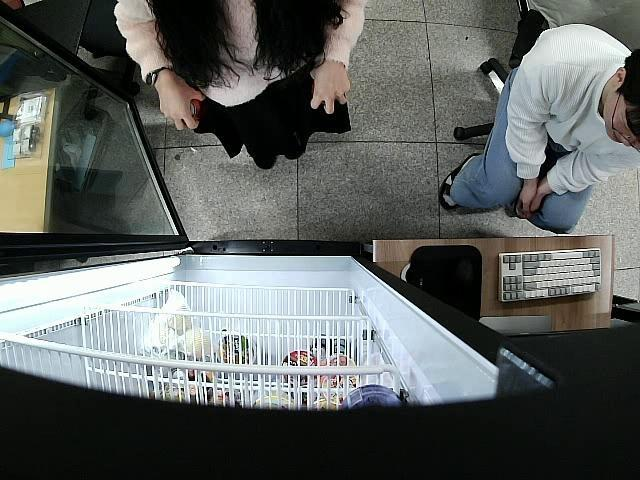11_cocaColaZero: (190, 98, 200, 122)
